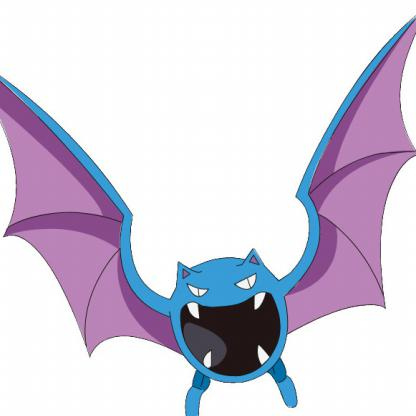Golbat: (1, 8, 416, 416)
